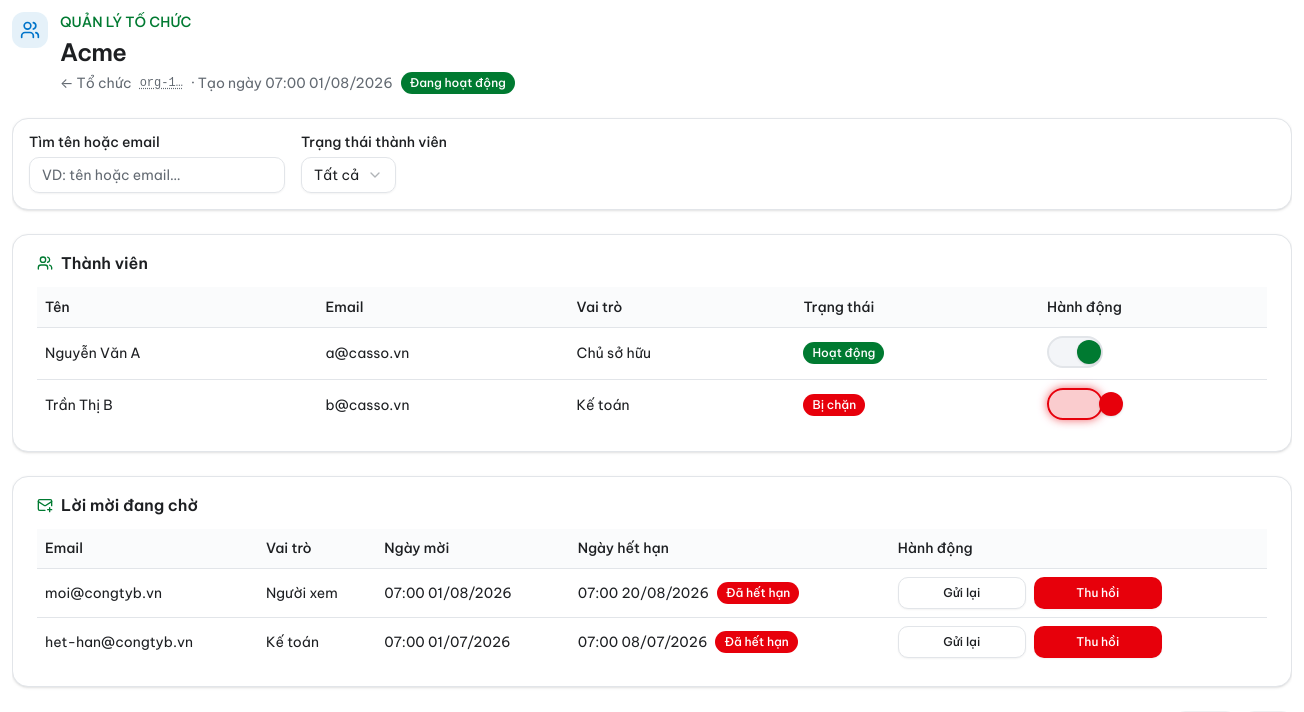
Test case: AdminOrganizationMembersPage › pending invites › disables only the active invite row while resending
Click the button "Gửi lại" in the row of "moi@congtyb.vn".
click(962, 593)  # box left=898, top=577, right=1026, bottom=609
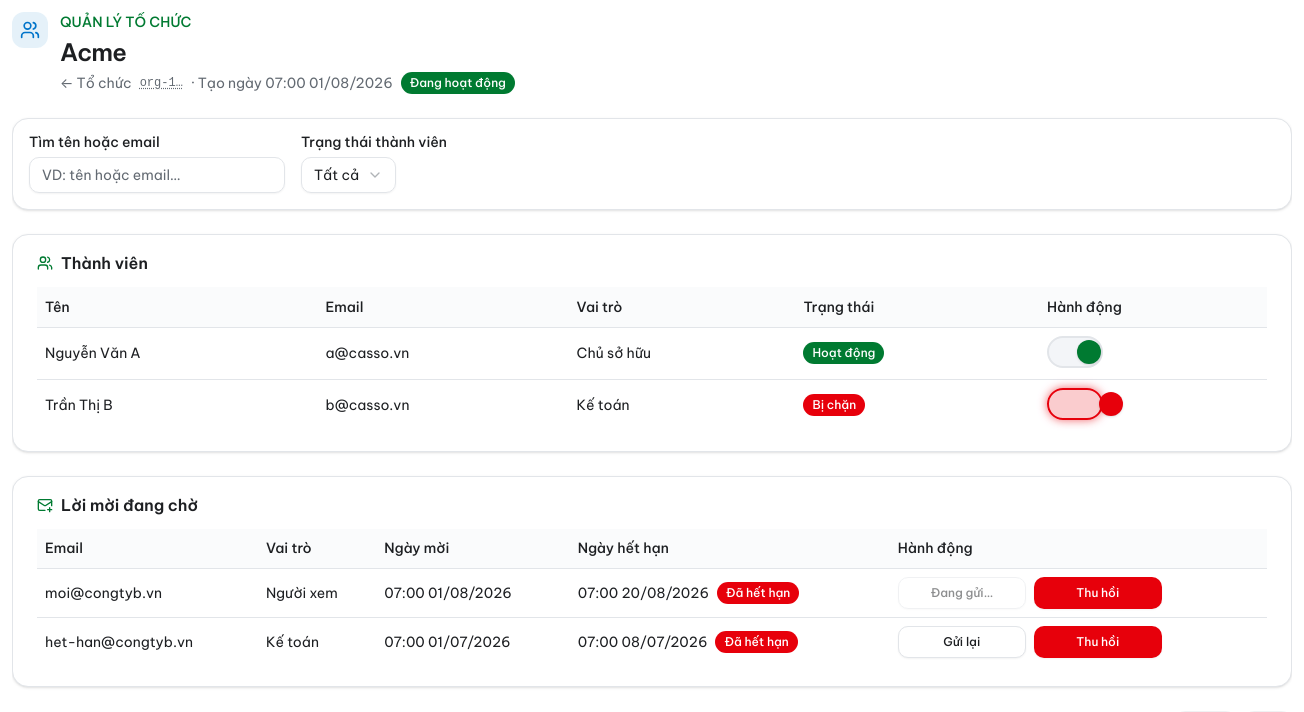
Expected: the button "Gửi lại" is enabled, left=898, top=626, right=1026, bottom=658
Expected: the button "Đang gửi…" is disabled, left=898, top=577, right=1026, bottom=609
